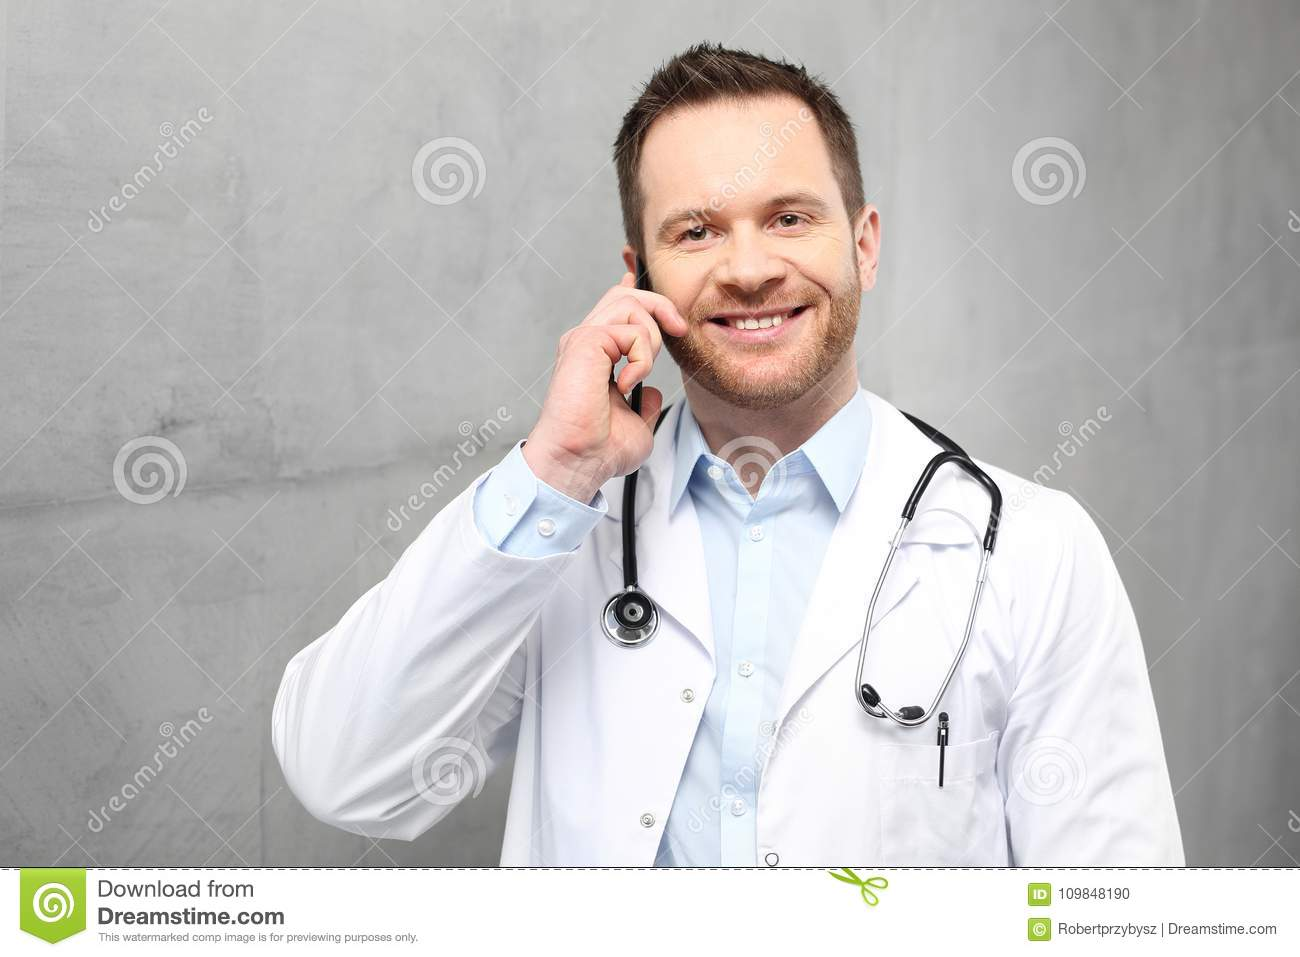phone: (621, 247, 659, 427)
talk: (535, 174, 850, 498)
